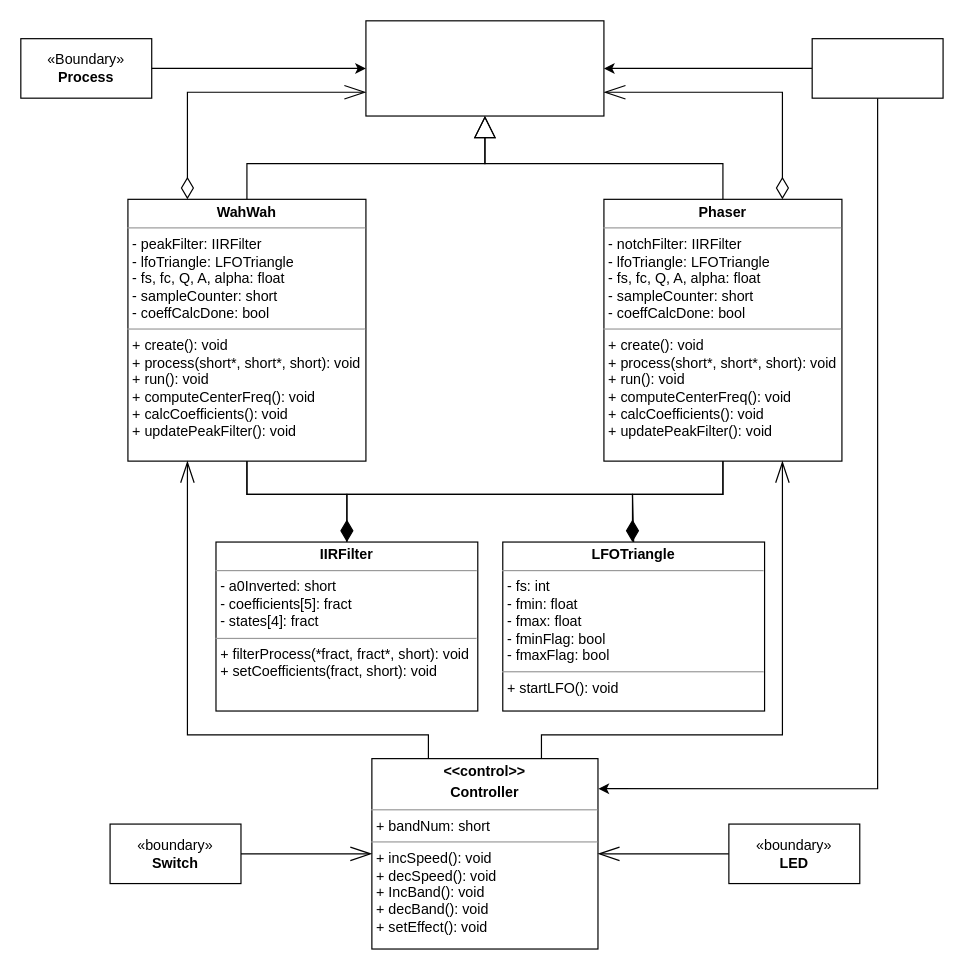
This 964x970 diagram has some shape labels left out. Each missing label, with the centre of its shape:
"Algorithm + create(): void + process(short*, short*, short): void" goes at (484,68).
"«Control» Application" goes at (877,67).
